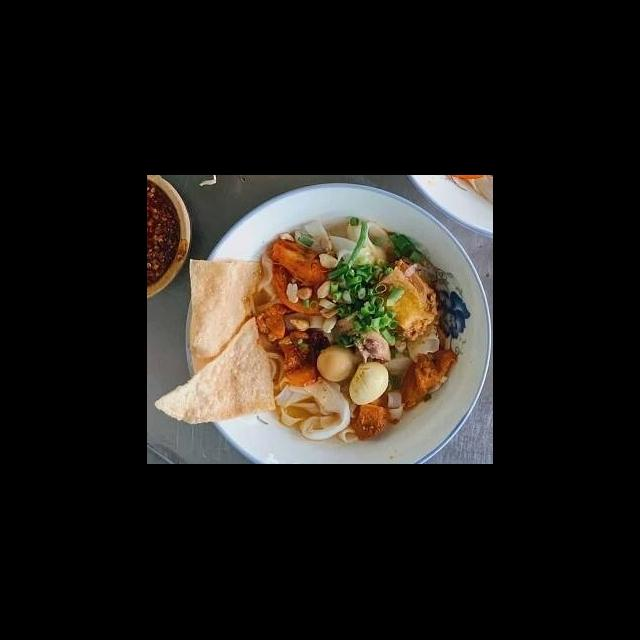banh da: (192, 179, 328, 286), (243, 207, 397, 275)
ca: (207, 383, 288, 438), (170, 342, 230, 381)
mi: (170, 271, 284, 355), (365, 296, 445, 384), (194, 369, 308, 421)
thit ga: (290, 361, 398, 427)
tom: (322, 274, 420, 342)
trung: (242, 313, 293, 355), (215, 342, 272, 379)
